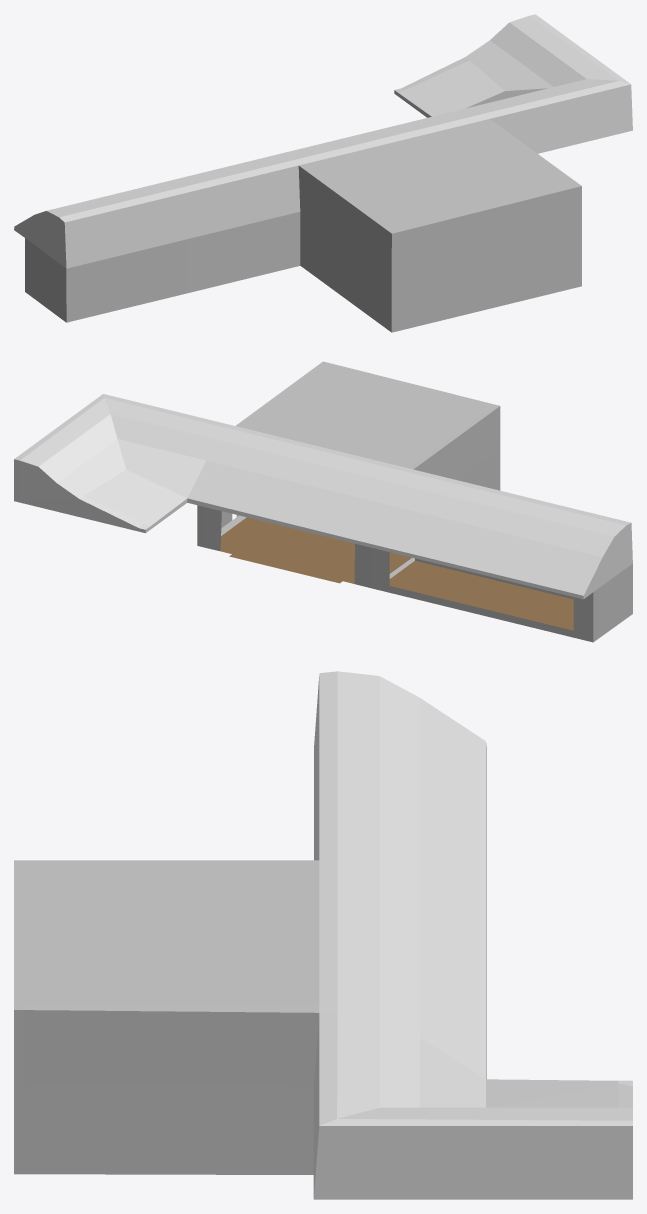
Rendered from HouseOuterWalls and CeilingsV0.96.fbx.
The picture shows the model from 3 angles, top to bottom: view 1: azimuth 30°, elevation 25°; view 2: azimuth 150°, elevation 25°; view 3: azimuth 270°, elevation 25°; orthographic projection. The views are drawn at different scales.
Parts seen in each view (by area): view 1: House.008, House.001; view 2: House.001, House.008, House.010; view 3: House.001, House.008.
Part boxes in pixels (x1,y1,x2,y2): House.008: [25, 119, 581, 332]; House.001: [14, 14, 632, 268]; House.001: [14, 394, 632, 599]; House.008: [197, 361, 632, 642]; House.010: [220, 517, 573, 630]; House.001: [313, 671, 632, 1199]; House.008: [14, 751, 319, 1174].
Bounding box in the file's own units: 3547 × 600 × 2049.
